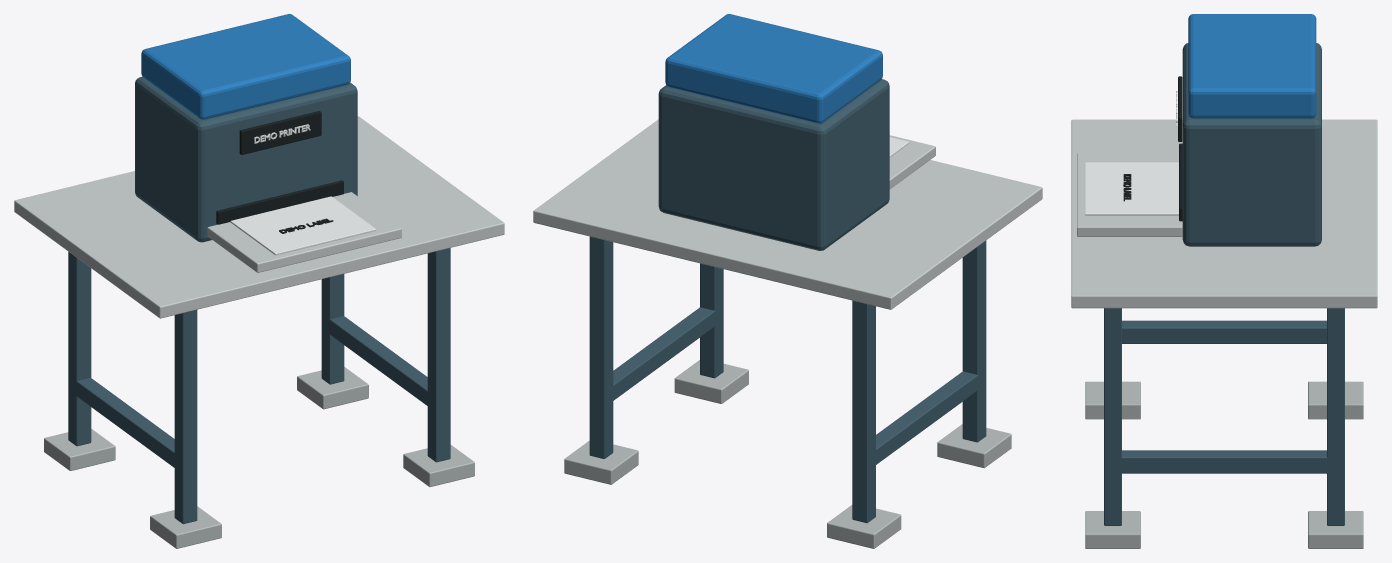
File: label_printer.glb
3 views of the same model, side by side, from view 1: azimuth 30°, elevation 25°; view 2: azimuth 150°, elevation 25°; view 3: azimuth 270°, elevation 25° (orthographic). The views are drawn at different scales.
Visible parts, largest first — view 1: PRINTER_BENCH_top, PRINTER_body, PRINTER_lid, PRINTER_BENCH_leg_0.55_-0.4, PRINTER_BENCH_leg_-0.55_-0.4, PRINTER_demo_paper, PRINTER_output_tray, PRINTER_BENCH_leg_-0.55_0.4, PRINTER_BENCH_cross_-0.55, PRINTER_BENCH_cross_0.55, PRINTER_BENCH_leg_0.55_0.4, PRINTER_control_screen (+5 smaller); view 2: PRINTER_BENCH_top, PRINTER_body, PRINTER_lid, PRINTER_BENCH_leg_0.55_0.4, PRINTER_BENCH_leg_-0.55_0.4, PRINTER_BENCH_leg_-0.55_-0.4, PRINTER_BENCH_cross_-0.55, PRINTER_BENCH_cross_0.55, PRINTER_BENCH_leg_0.55_-0.4, PRINTER_BENCH_foot_-0.55_0.4, PRINTER_BENCH_foot_0.55_0.4, PRINTER_BENCH_foot_0.55_-0.4 (+2 smaller); view 3: PRINTER_BENCH_top, PRINTER_body, PRINTER_lid, PRINTER_BENCH_cross_0.55, PRINTER_demo_paper, PRINTER_BENCH_cross_-0.55, PRINTER_BENCH_leg_0.55_0.4, PRINTER_BENCH_leg_0.55_-0.4, PRINTER_output_tray, PRINTER_BENCH_foot_0.55_0.4, PRINTER_BENCH_foot_0.55_-0.4, PRINTER_BENCH_foot_-0.55_0.4 (+1 smaller).
Part boxes in pixels (x1,y1,x2,y2): PRINTER_BENCH_top: [14, 116, 504, 318]; PRINTER_body: [135, 76, 357, 242]; PRINTER_lid: [141, 14, 350, 119]; PRINTER_BENCH_leg_0.55_-0.4: [427, 248, 450, 462]; PRINTER_BENCH_leg_-0.55_-0.4: [174, 310, 197, 524]; PRINTER_demo_paper: [230, 196, 376, 255]; PRINTER_output_tray: [207, 192, 401, 272]; PRINTER_BENCH_leg_-0.55_0.4: [68, 252, 91, 446]; PRINTER_BENCH_cross_-0.55: [74, 378, 197, 473]; PRINTER_BENCH_cross_0.55: [321, 315, 450, 411]; PRINTER_BENCH_leg_0.55_0.4: [321, 274, 344, 384]; PRINTER_control_screen: [239, 111, 321, 154]; PRINTER_BENCH_top: [533, 119, 1042, 309]; PRINTER_body: [658, 79, 889, 250]; PRINTER_lid: [665, 14, 882, 123]; PRINTER_BENCH_leg_0.55_0.4: [589, 236, 613, 458]; PRINTER_BENCH_leg_-0.55_0.4: [852, 300, 875, 523]; PRINTER_BENCH_leg_-0.55_-0.4: [962, 240, 986, 442]; PRINTER_BENCH_cross_-0.55: [852, 370, 986, 470]; PRINTER_BENCH_cross_0.55: [589, 306, 723, 406]; PRINTER_BENCH_leg_0.55_-0.4: [700, 263, 723, 378]; PRINTER_BENCH_foot_-0.55_0.4: [827, 505, 901, 548]; PRINTER_BENCH_foot_0.55_0.4: [564, 441, 638, 484]; PRINTER_BENCH_foot_0.55_-0.4: [674, 360, 748, 403]; PRINTER_BENCH_top: [1071, 119, 1377, 308]; PRINTER_body: [1182, 43, 1321, 246]; PRINTER_lid: [1188, 14, 1316, 118]; PRINTER_BENCH_cross_0.55: [1104, 450, 1344, 473]; PRINTER_demo_paper: [1085, 162, 1178, 215]; PRINTER_BENCH_cross_-0.55: [1122, 320, 1326, 343]; PRINTER_BENCH_leg_0.55_0.4: [1327, 308, 1344, 525]; PRINTER_BENCH_leg_0.55_-0.4: [1104, 308, 1121, 525]; PRINTER_output_tray: [1077, 153, 1182, 236]; PRINTER_BENCH_foot_0.55_0.4: [1308, 511, 1363, 548]; PRINTER_BENCH_foot_0.55_-0.4: [1085, 511, 1140, 548]; PRINTER_BENCH_foot_-0.55_0.4: [1308, 381, 1363, 419].
Size of the model in its own units: 1.5 by 1.67 by 1.1.
